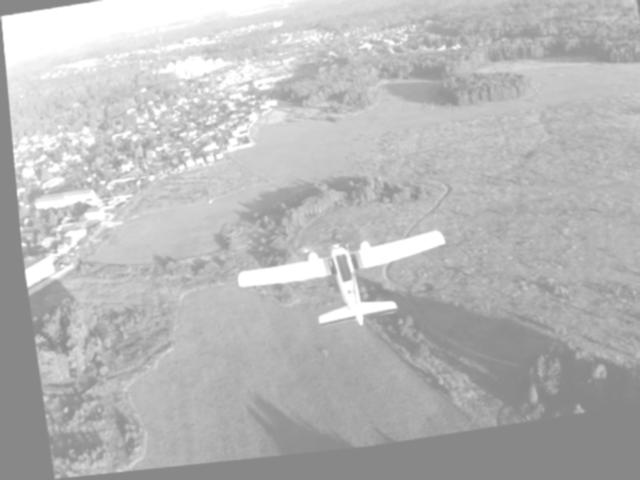hedef: (220, 222, 461, 355)
